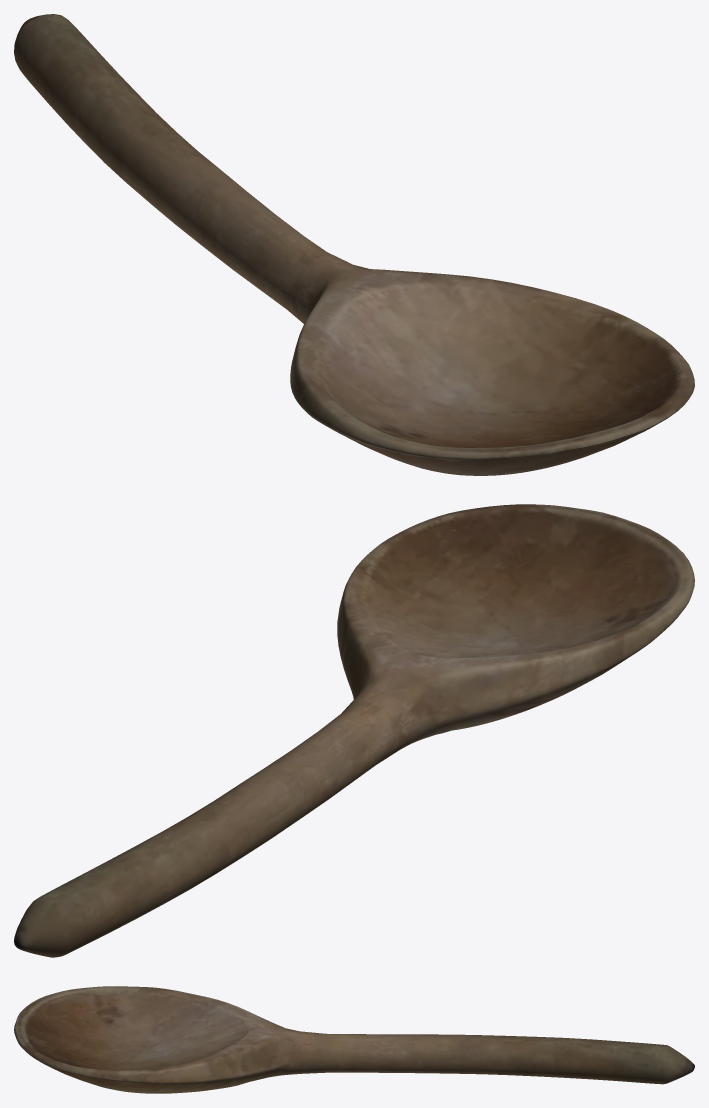
The model's file is woodenSpoon.glb.
3 renders of one model, top to bottom at view 1: azimuth 30°, elevation 25°; view 2: azimuth 150°, elevation 25°; view 3: azimuth 270°, elevation 25°, orthographic. The views are drawn at different scales.
Visible parts, largest first — view 1: wooden_spoon; view 2: wooden_spoon; view 3: wooden_spoon.
Boxes of the visible parts, x1,y1,x2,y2 form: wooden_spoon: (14,14,694,475); wooden_spoon: (14,504,694,957); wooden_spoon: (14,986,694,1093).
Size of the model in its own units: 0.0867 by 0.0251 by 0.2776.
Materials: 1 (1 with a texture image).
